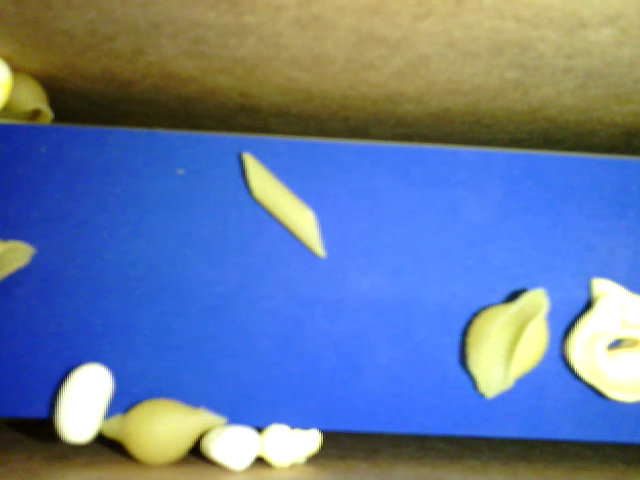penne: (240, 150, 327, 259), (2, 239, 34, 282)
shell: (455, 279, 554, 408), (93, 400, 229, 466), (2, 70, 60, 129)
tortellini: (560, 275, 639, 405)
